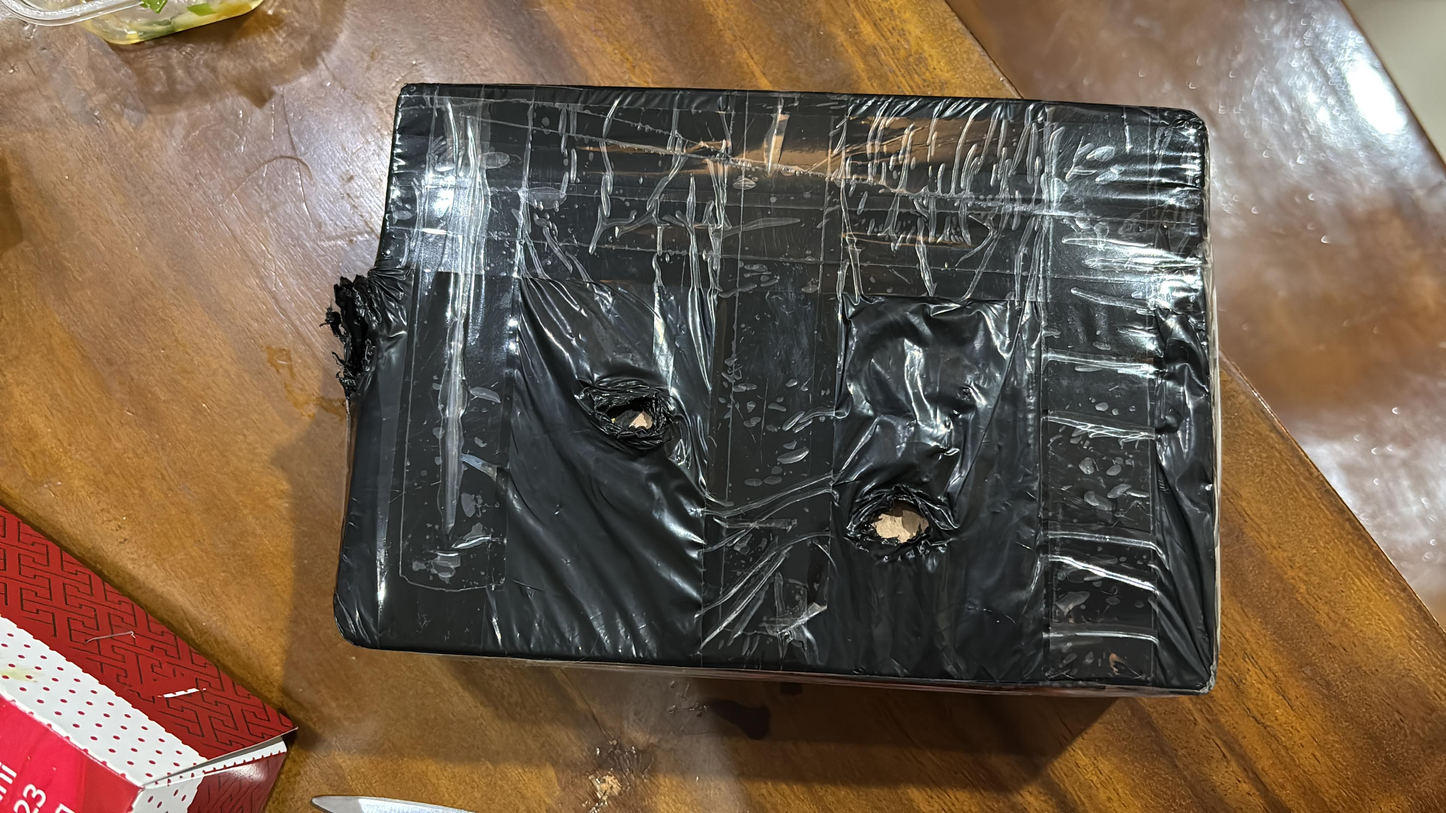damaged package: (720, 183, 983, 232), (599, 313, 778, 378), (433, 467, 580, 546)
undamaged: (129, 171, 1345, 712)
